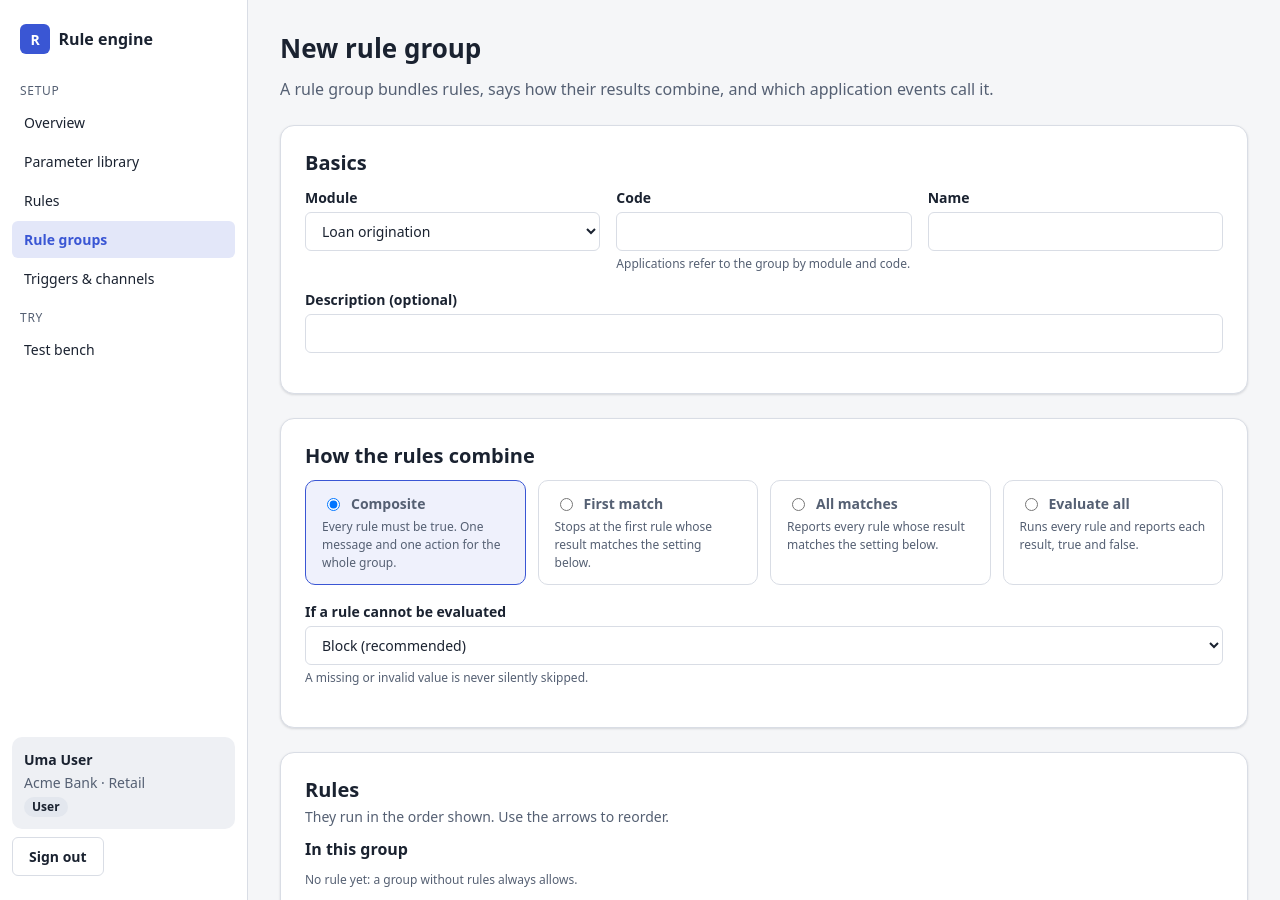
Test: rule group form › shows the group messages only for the composite policy
The image size is (1280, 900).
Click the radio button labelled "First match": (566, 504) [560, 498, 572, 511]
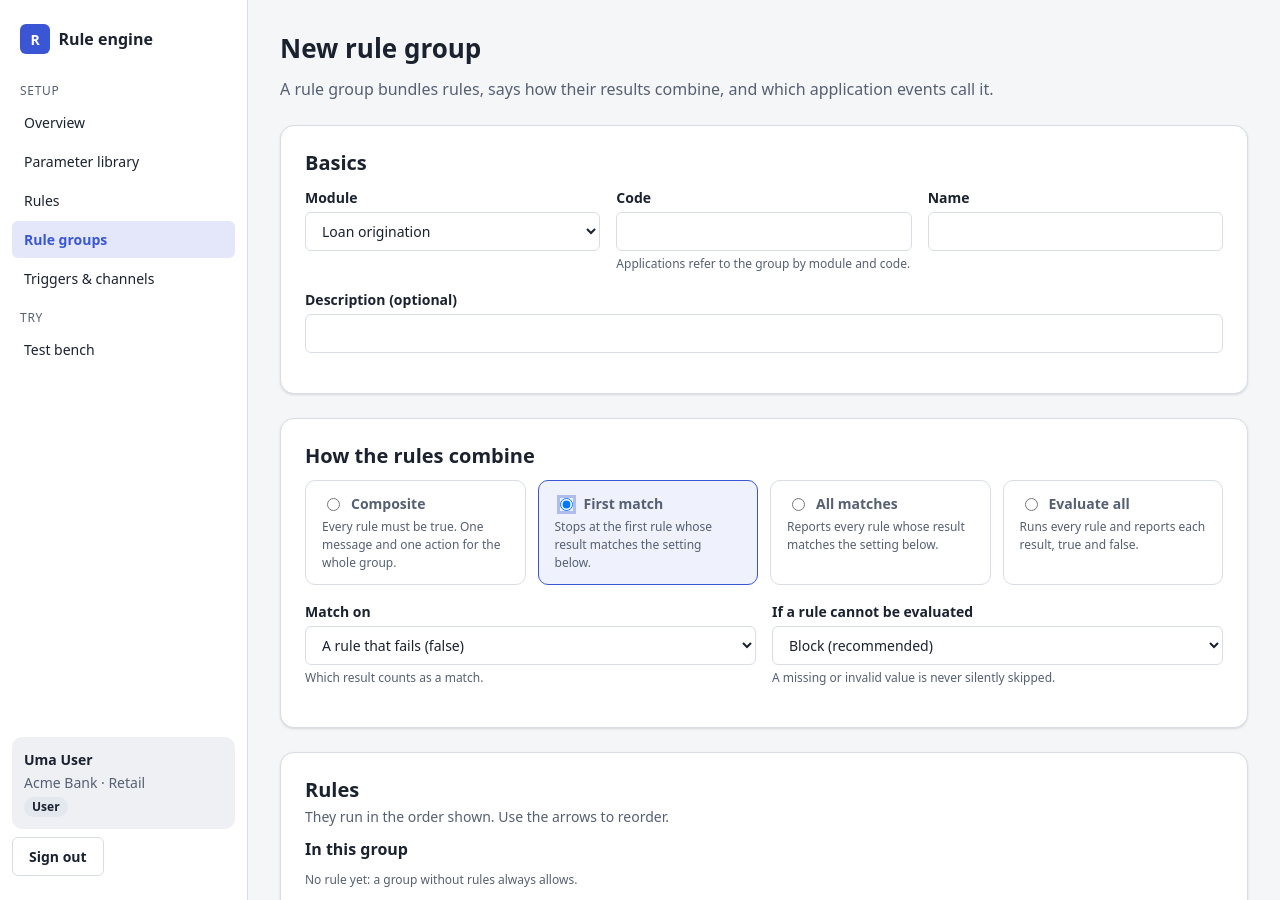
Expected: the dropdown labelled "Match on" is shown, [305, 626, 756, 664]
Click the radio button labelled "Evaluate all": (1031, 504) [1024, 498, 1038, 511]
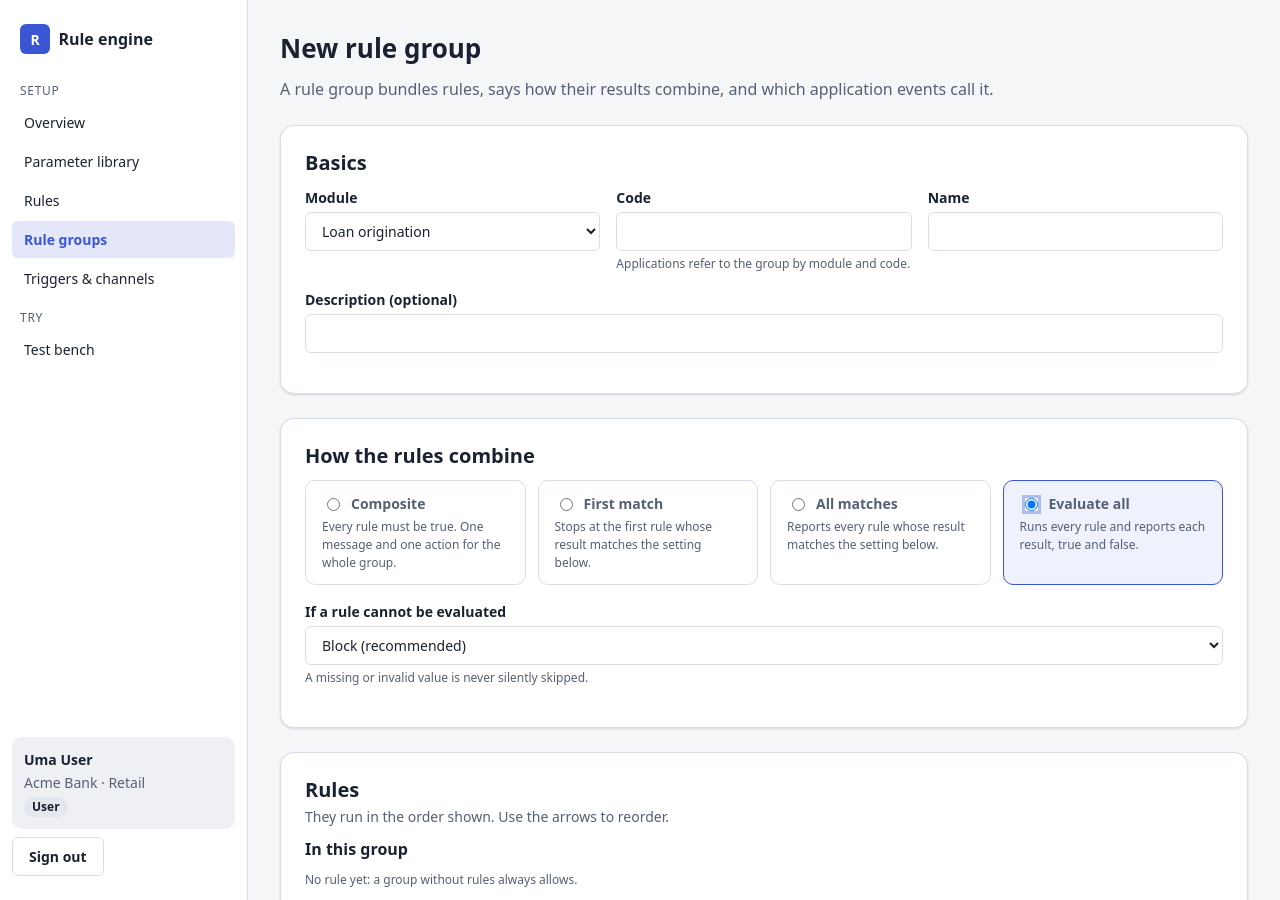
Expected: the label labelled "Match on" is gone
